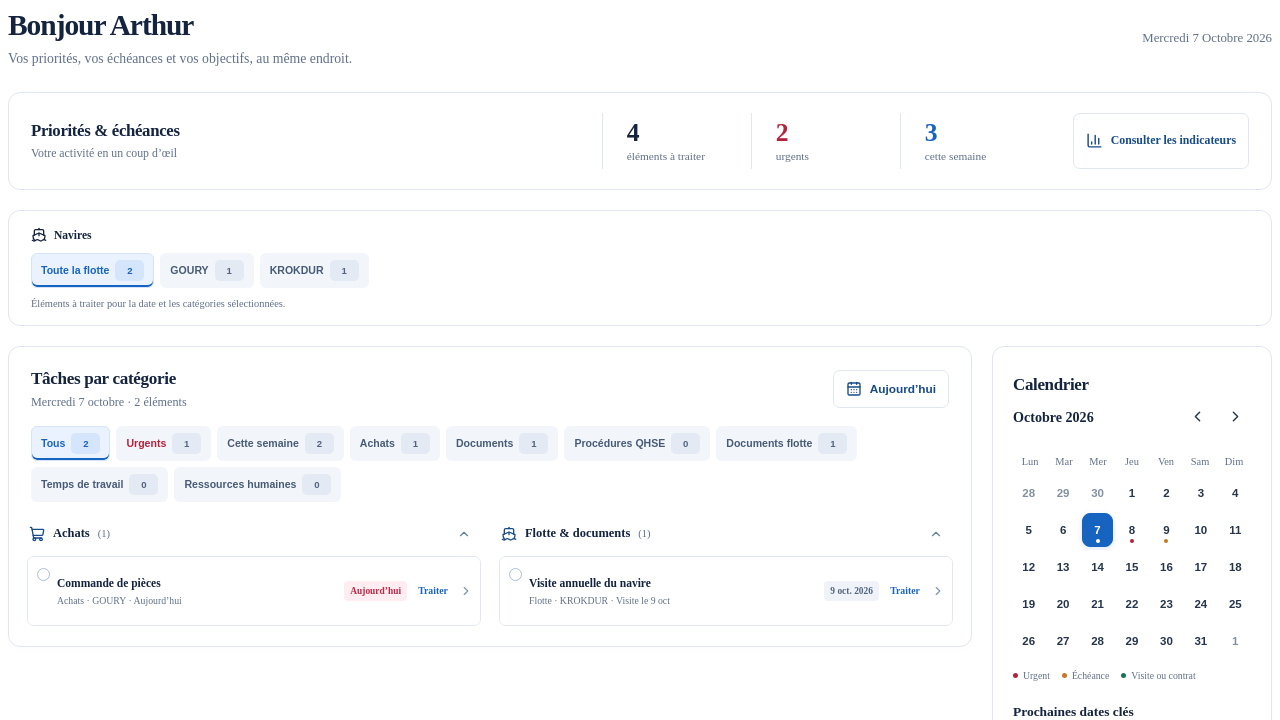
Test: home calendar and task interactions › navigates adjacent months without changing the selected task date
This screenshot has width=1280, height=720.
Check: the link "Commande de pièces" is shown, box [28, 557, 480, 625]
What coordinates should you click on to do the following:
click the button named "Mois suivant"
I would click on:
 (1235, 417)
Its box is [1219, 401, 1251, 433].
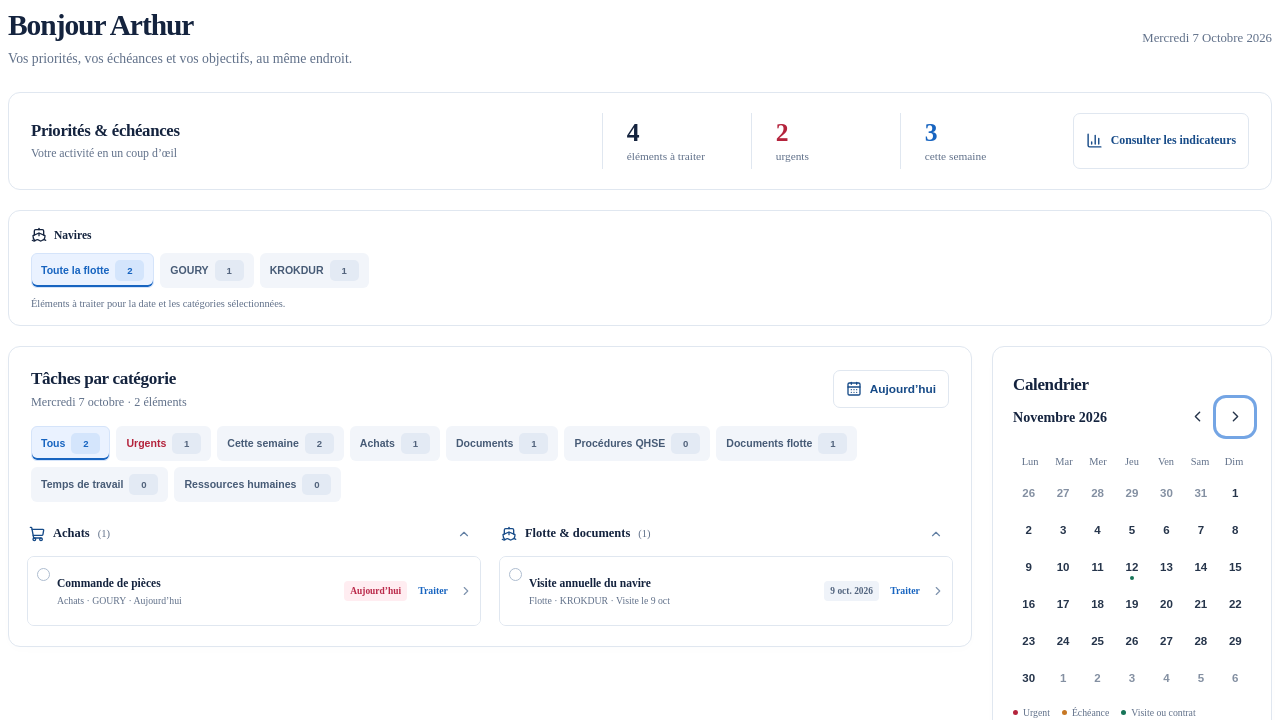
Check: the text "Mercredi 7 octobre · 2 éléments" is shown, box [31, 395, 187, 410]
Check: the heading "Novembre 2026" is shown, box [1013, 410, 1107, 426]
What coordinates should you click on to do the following:
click the button named "Mois précédent"
I would click on:
 (1197, 417)
Its box is [1181, 401, 1213, 433].
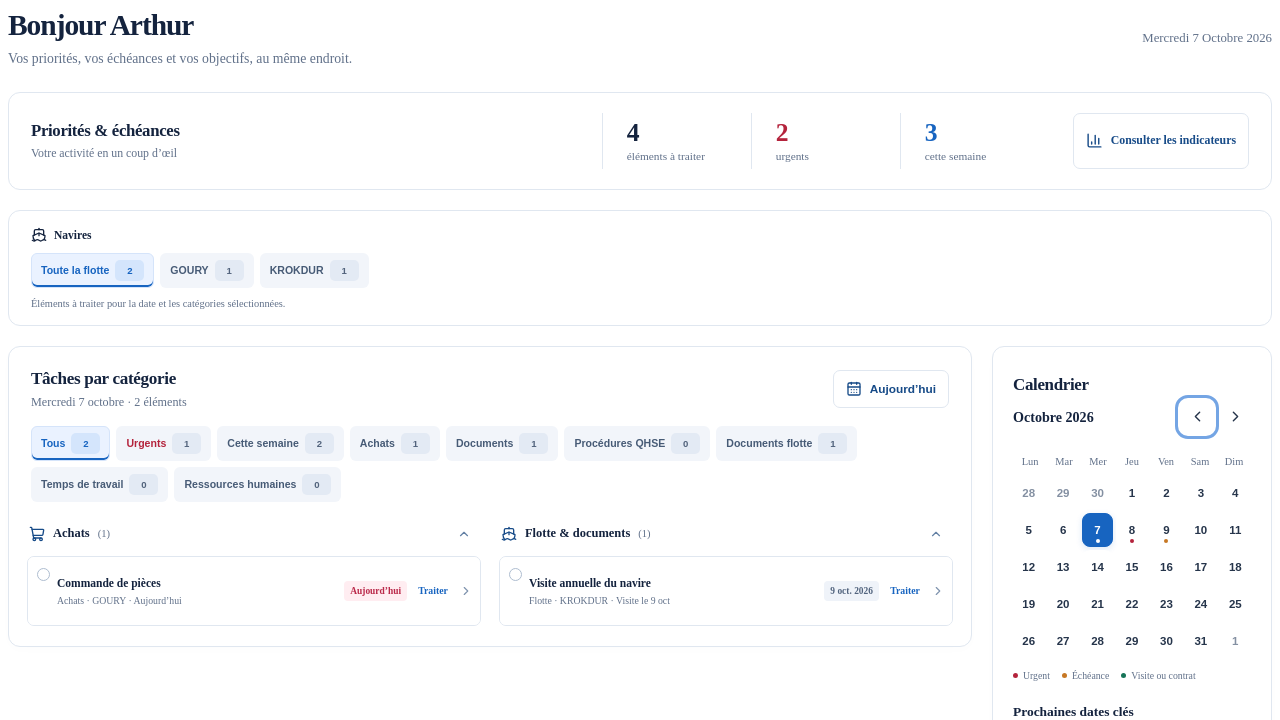
Check: the heading "Octobre 2026" is shown, box [1013, 410, 1094, 426]
What coordinates should you click on to do the following:
click the button named "Mois précédent"
I would click on:
 (1197, 417)
Its box is [1181, 401, 1213, 433].
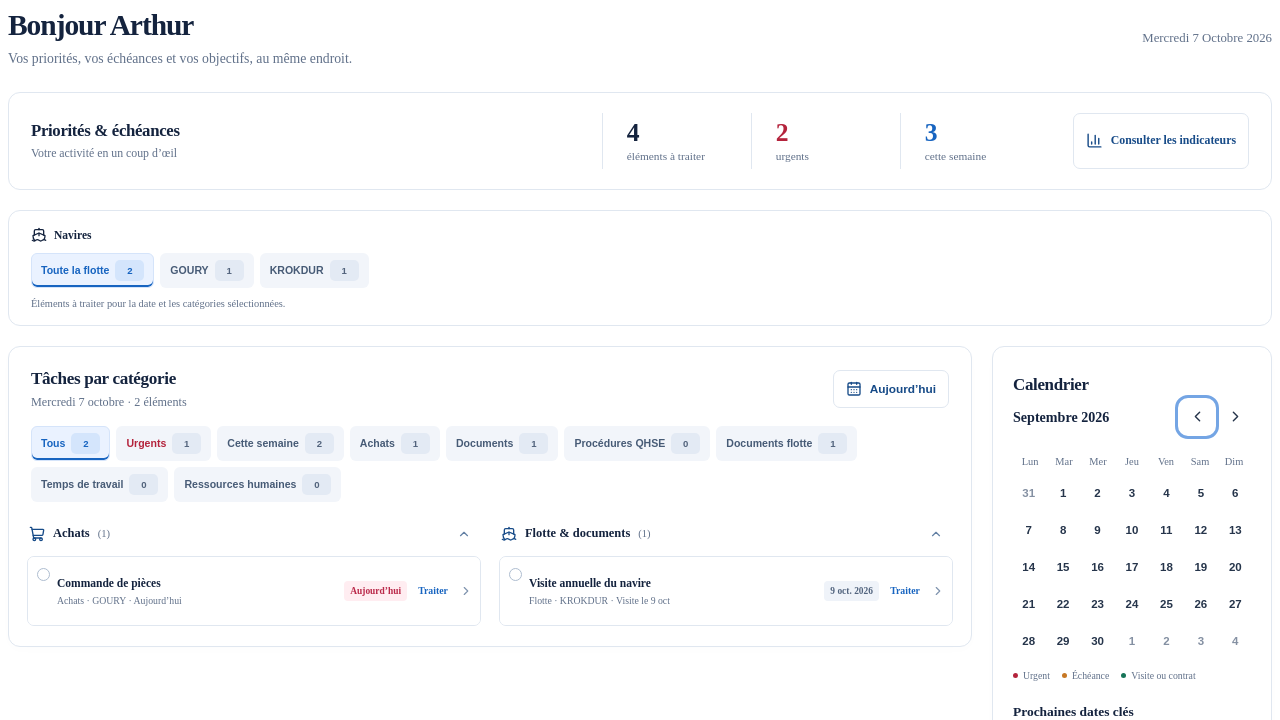
Check: the heading "Septembre 2026" is shown, box [1013, 410, 1109, 426]
What coordinates should you click on to do the following:
click the button "Aujourd’hui"
I would click on:
 (891, 390)
Its box is [833, 370, 949, 408].
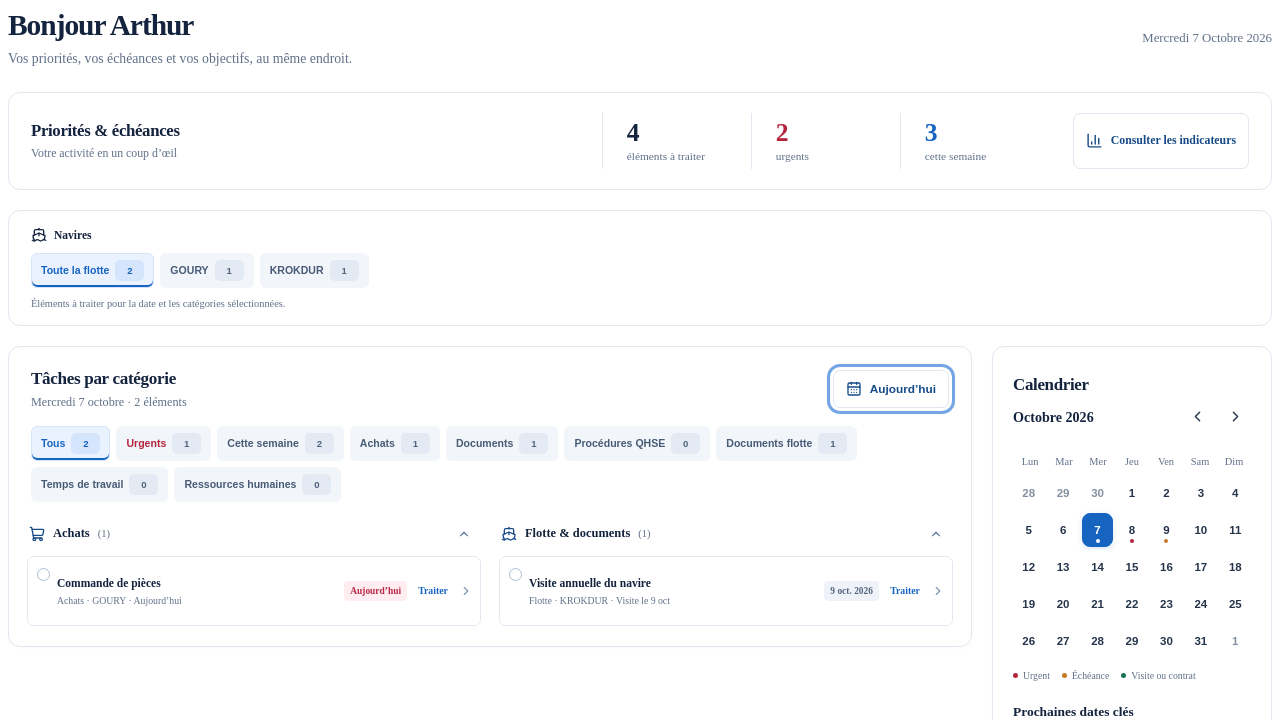
Check: the heading "Octobre 2026" is shown, box [1013, 410, 1094, 426]
